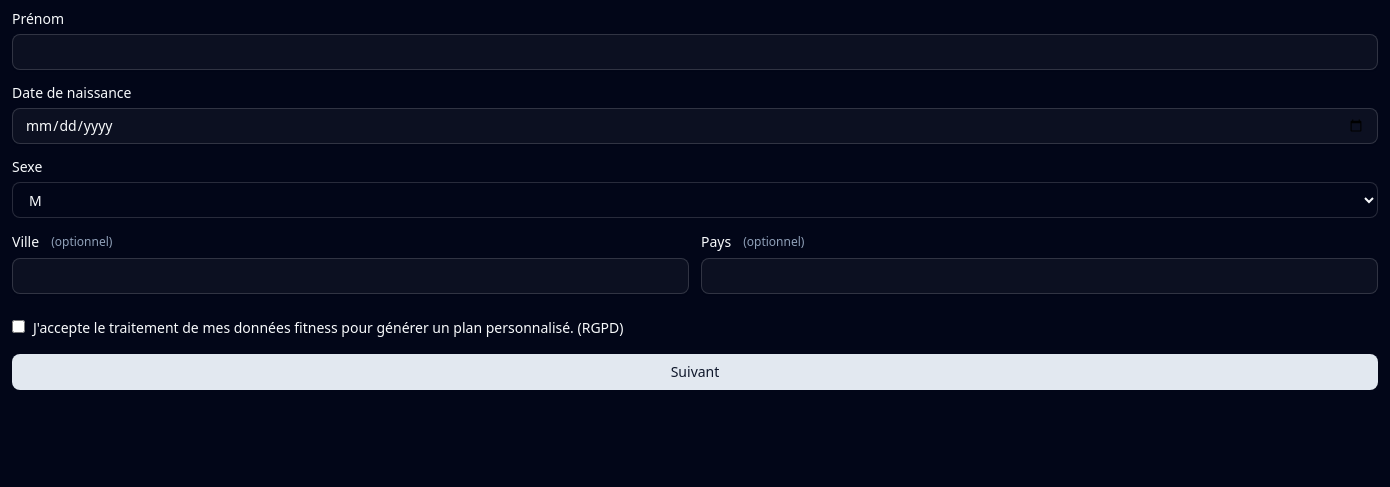
StepPersoForm › displays field-level errors when server returns errors
Click the button "Suivant".
click(695, 372)  # box [12,354,1378,390]
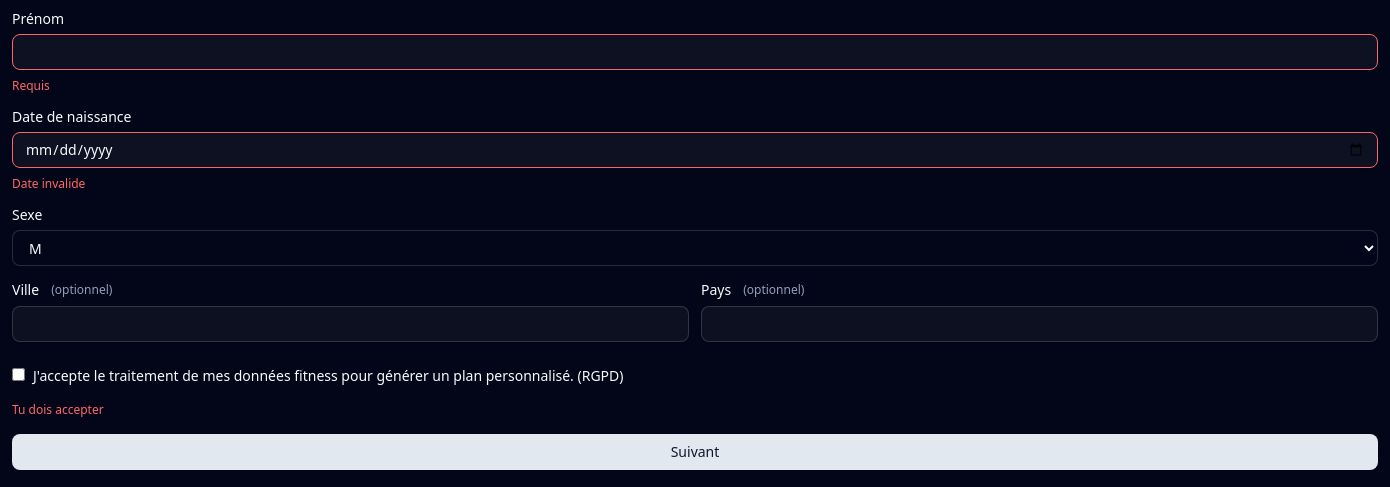
Check: the text "Requis" is shown, box [12,77,50,94]
Check: the text "Date invalide" is shown, box [12,175,85,192]
Check: the text "Tu dois accepter" is shown, box [12,401,104,418]
